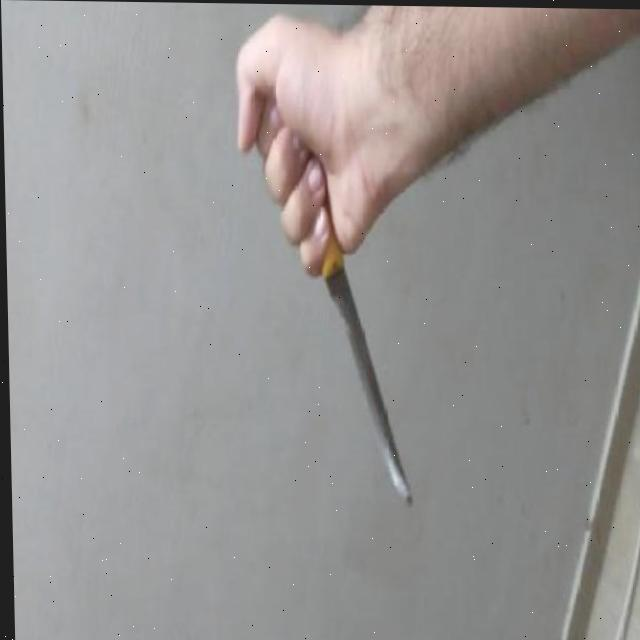knife: (316, 237, 411, 502)
